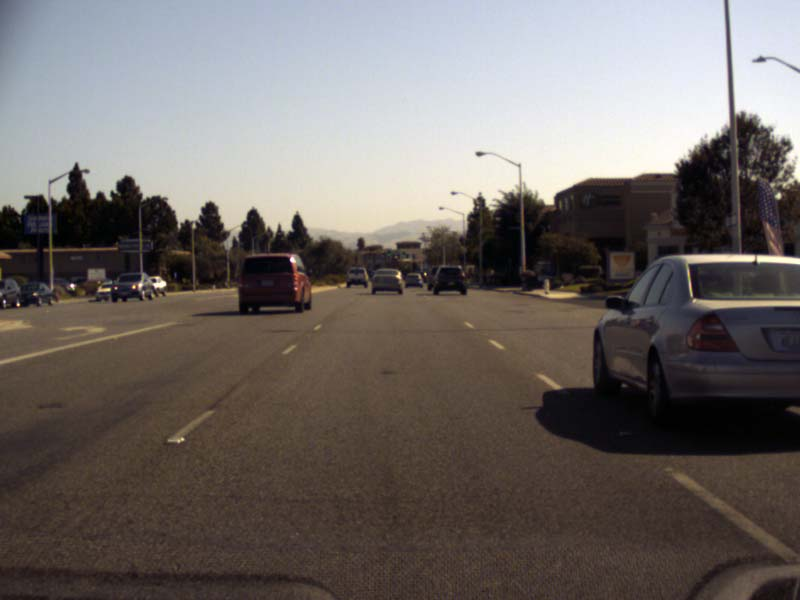Green: (386, 251, 390, 258), (402, 254, 404, 257)
